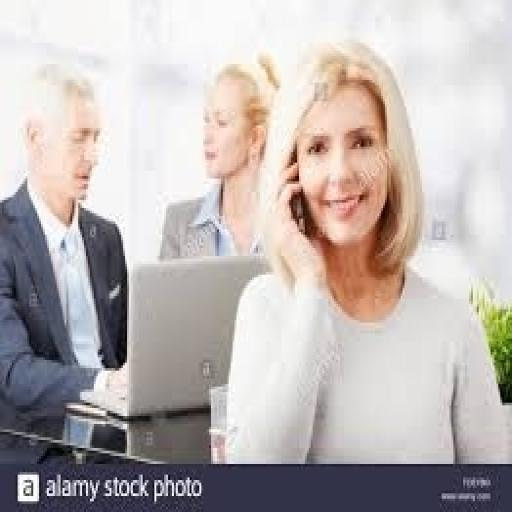calling: (221, 34, 510, 466), (0, 59, 131, 432), (156, 48, 284, 261)
